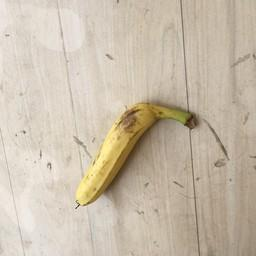Banana Ripe: (68, 97, 183, 220)
